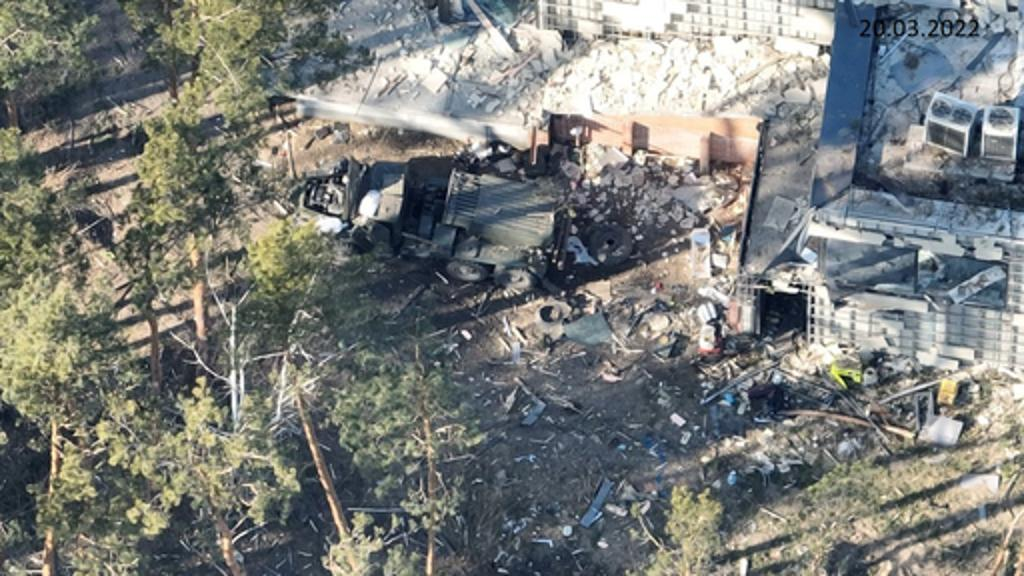MLRS: (296, 158, 572, 296)
